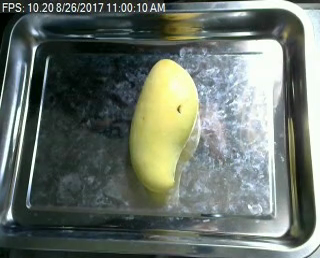Mango: (122, 59, 205, 194)
